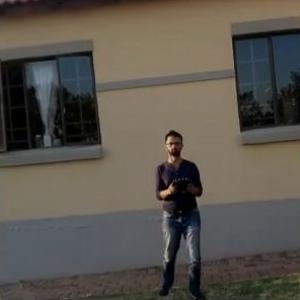follow: (152, 125, 212, 299)
